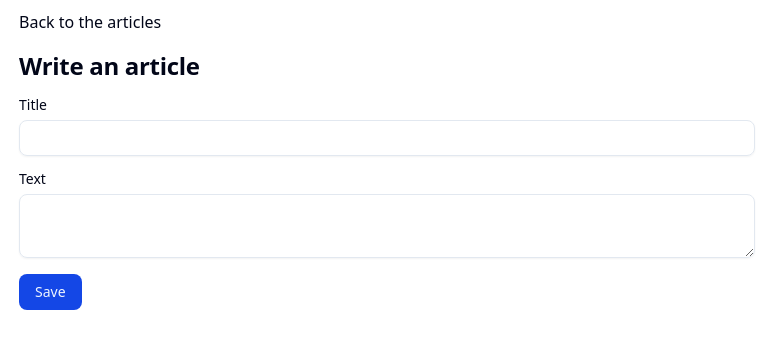
Test: an article without a title is refused next to the field, and nothing is sent
The width and height of the screenshot is (775, 355).
Type "Open the sign-in page." into the text box labelled "Text" at (387, 226), box [19,194,755,258]
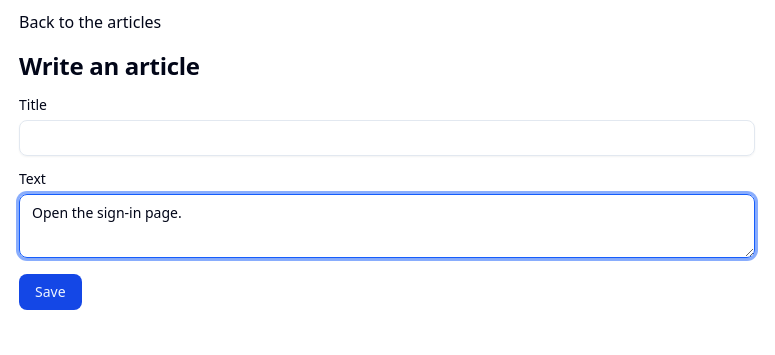
Click the button "Save" at (50, 292), box [19,274,82,310]
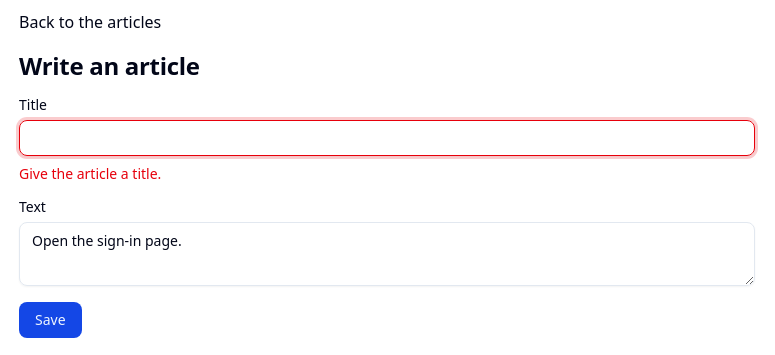
Check: the message reads "Give the article a title.", box [19,164,161,183]
